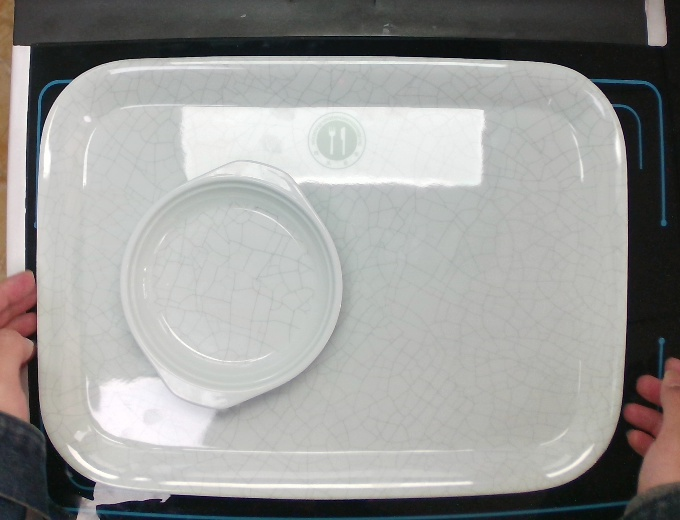JYsf-Shuang_Er_Pan: (114, 148, 348, 424)
